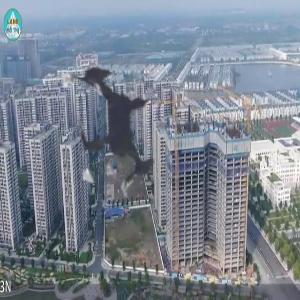drone: (11, 24, 224, 237)
